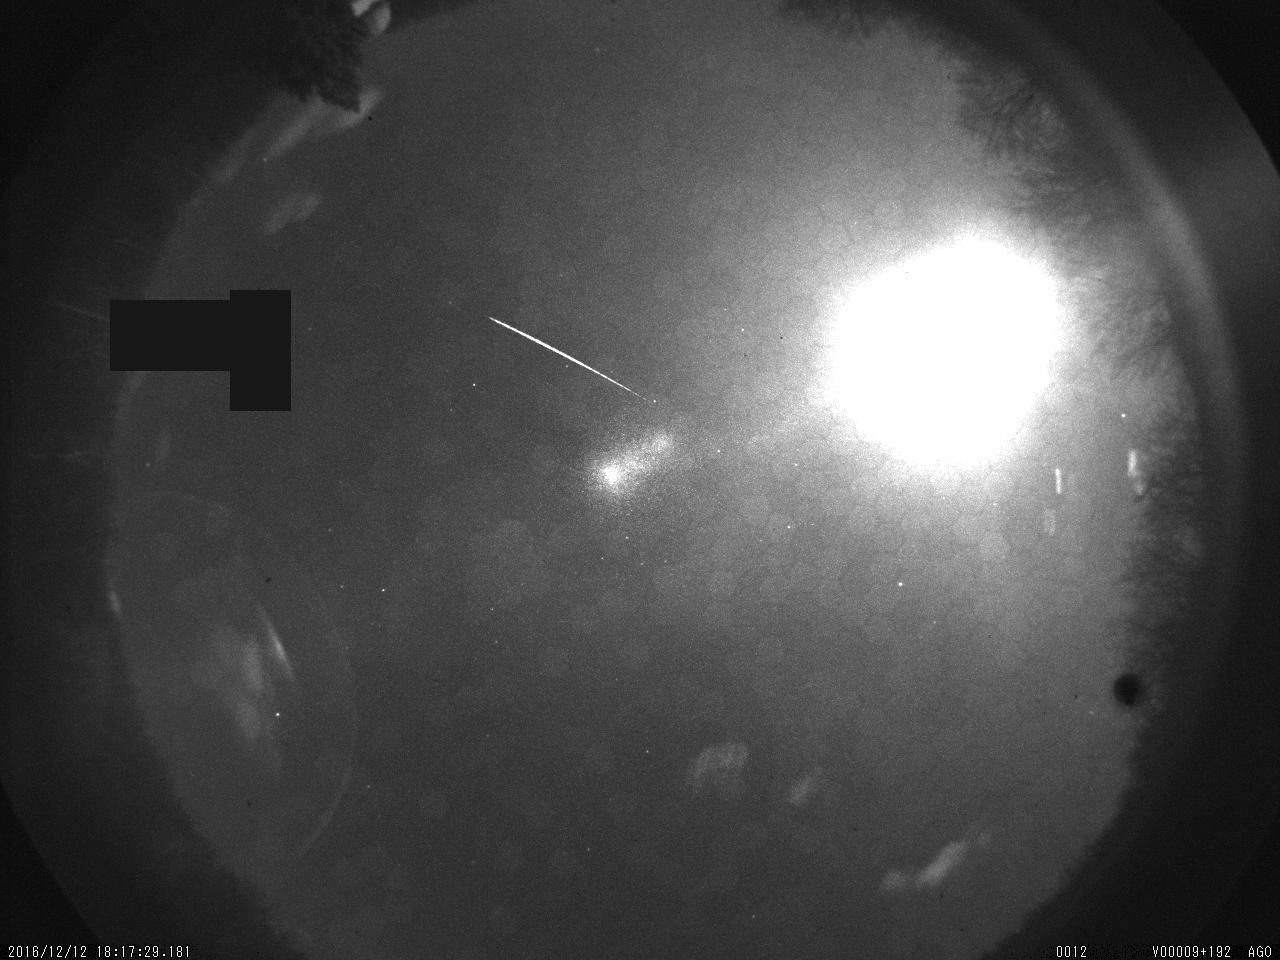meteor: (477, 307, 674, 428)
